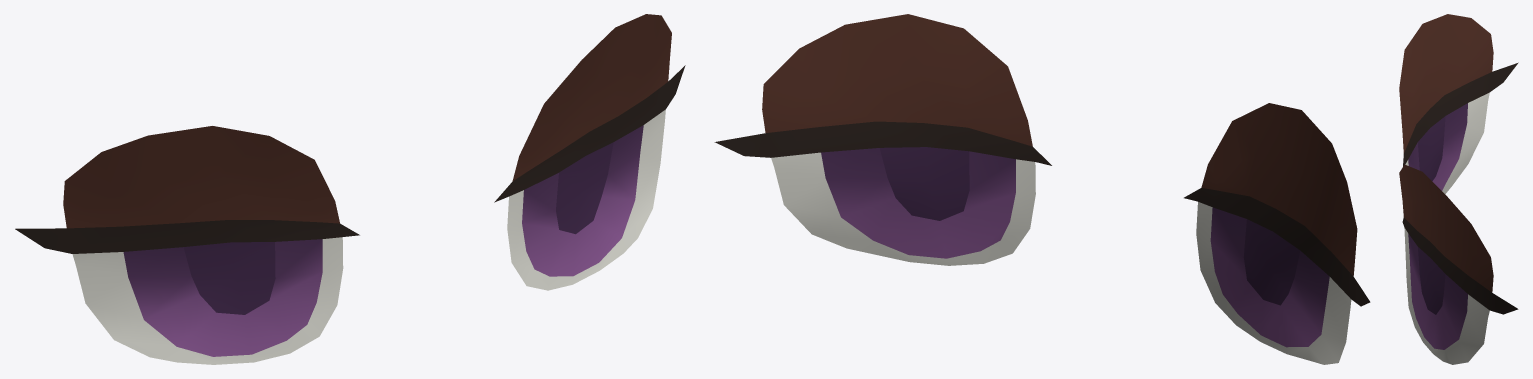
File: Eye_Purple_5.fbx
The picture shows the model from 3 angles, left to right: view 1: azimuth 30°, elevation 25°; view 2: azimuth 150°, elevation 25°; view 3: azimuth 270°, elevation 25°; orthographic projection. The views are drawn at different scales.
Visible parts, largest first — view 1: Eye_Purple_5; view 2: Eye_Purple_5; view 3: Eye_Purple_5.
Part boxes in pixels (bbox=[...]): Eye_Purple_5: bbox=[15, 14, 685, 364]; Eye_Purple_5: bbox=[714, 14, 1370, 364]; Eye_Purple_5: bbox=[1399, 14, 1518, 364].
Bounding box in the file's own units: 41.23 × 14.51 × 8.45.
